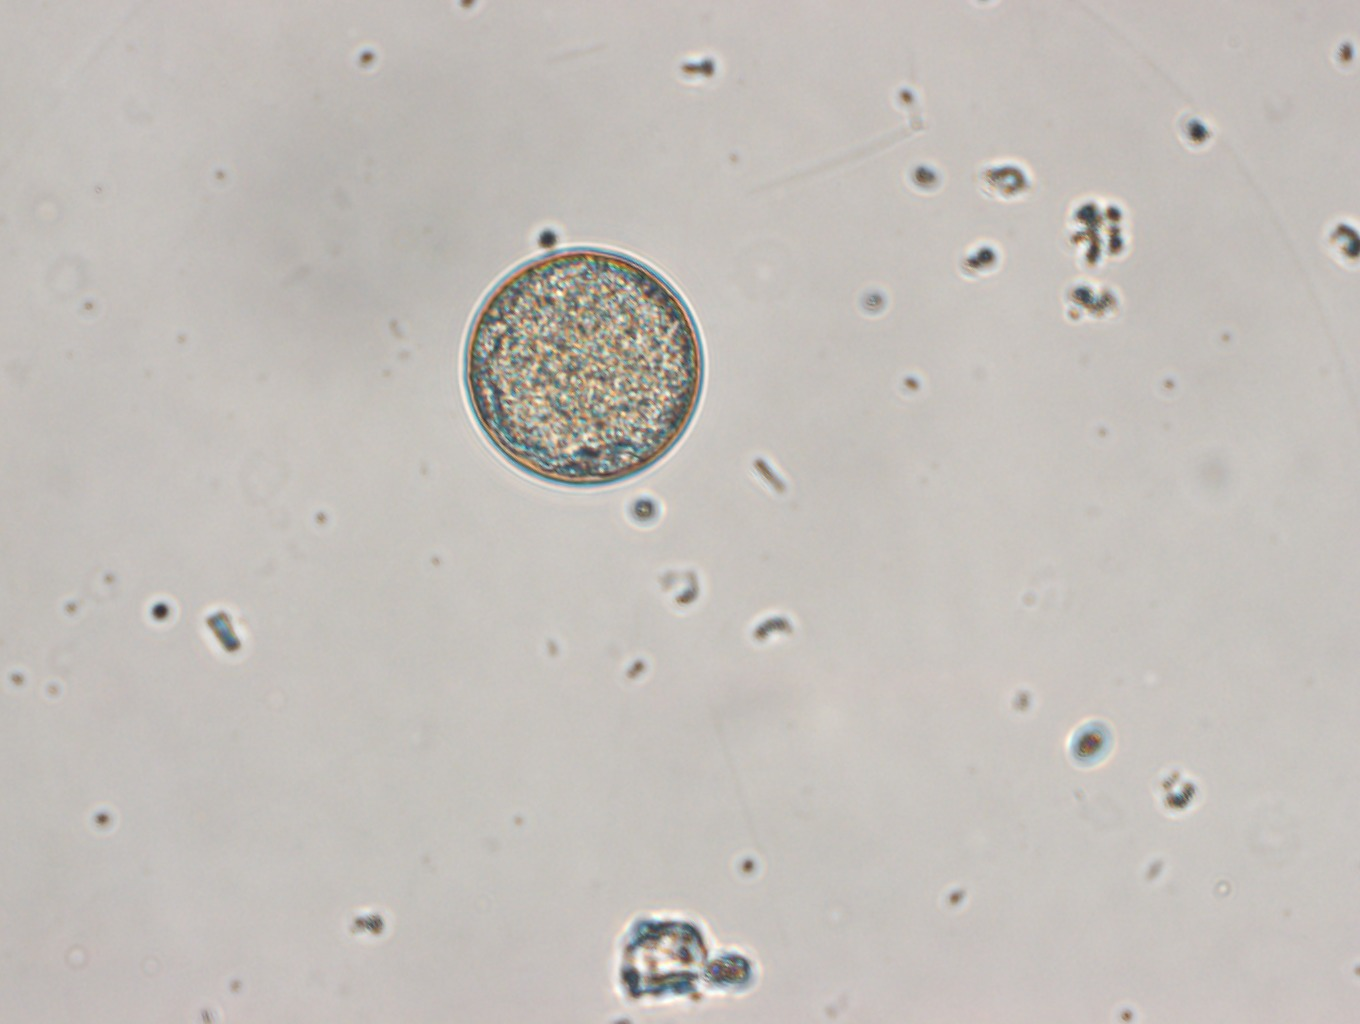coscinodiscus: (456, 240, 708, 493)
